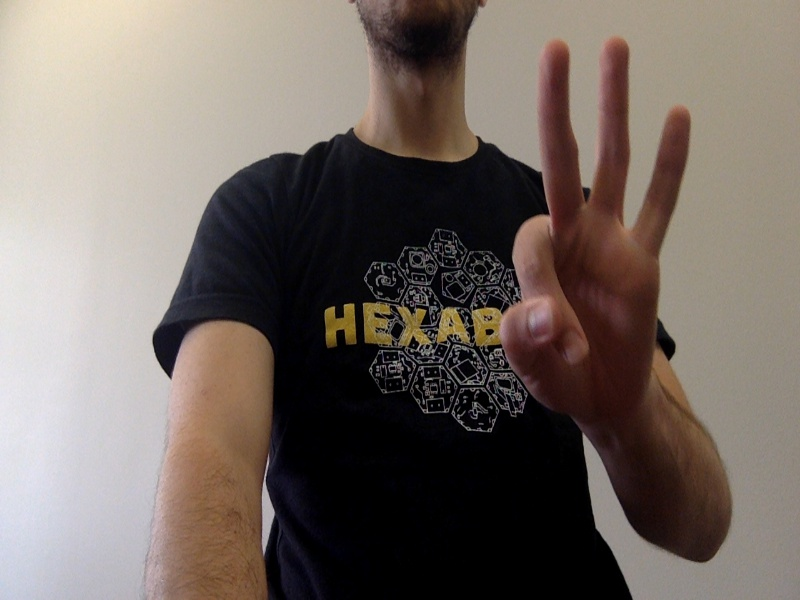3-hand: (509, 39, 691, 411)
